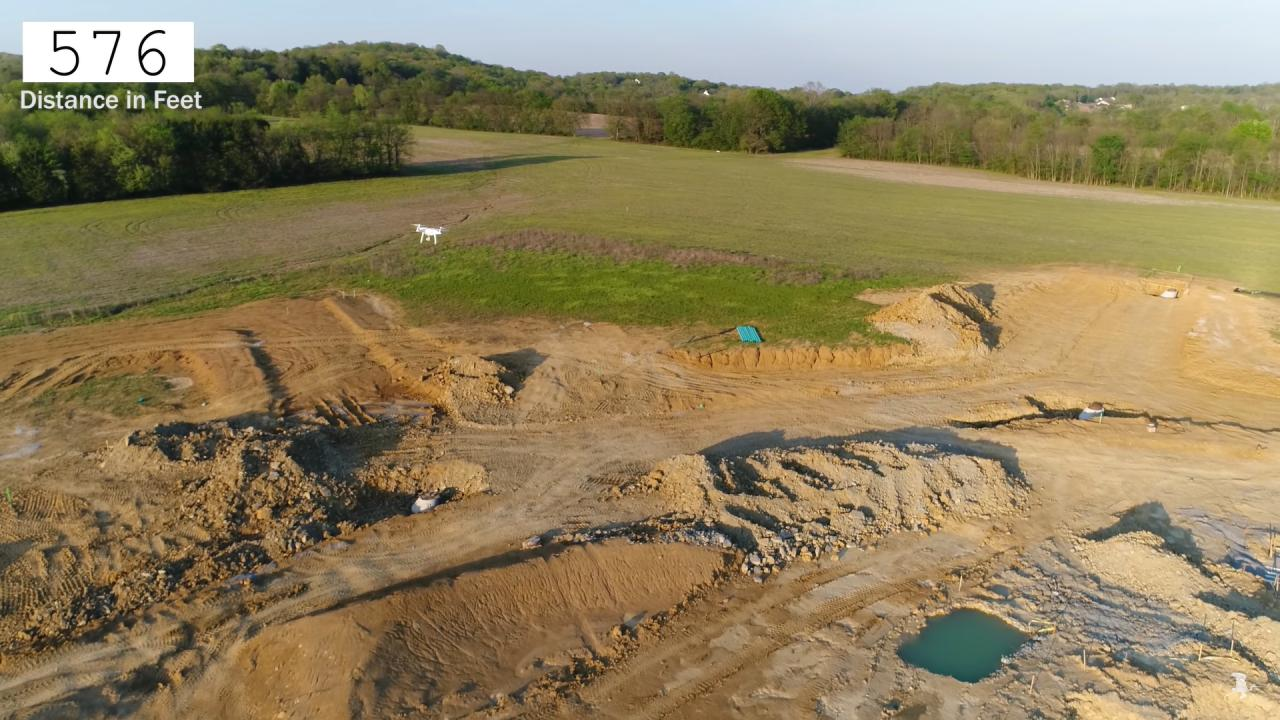Drone: (405, 216, 453, 252)
